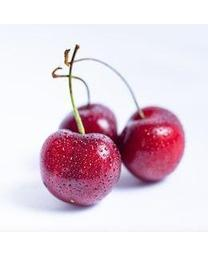cherry: (40, 129, 122, 207), (121, 107, 185, 183), (60, 103, 118, 162)
